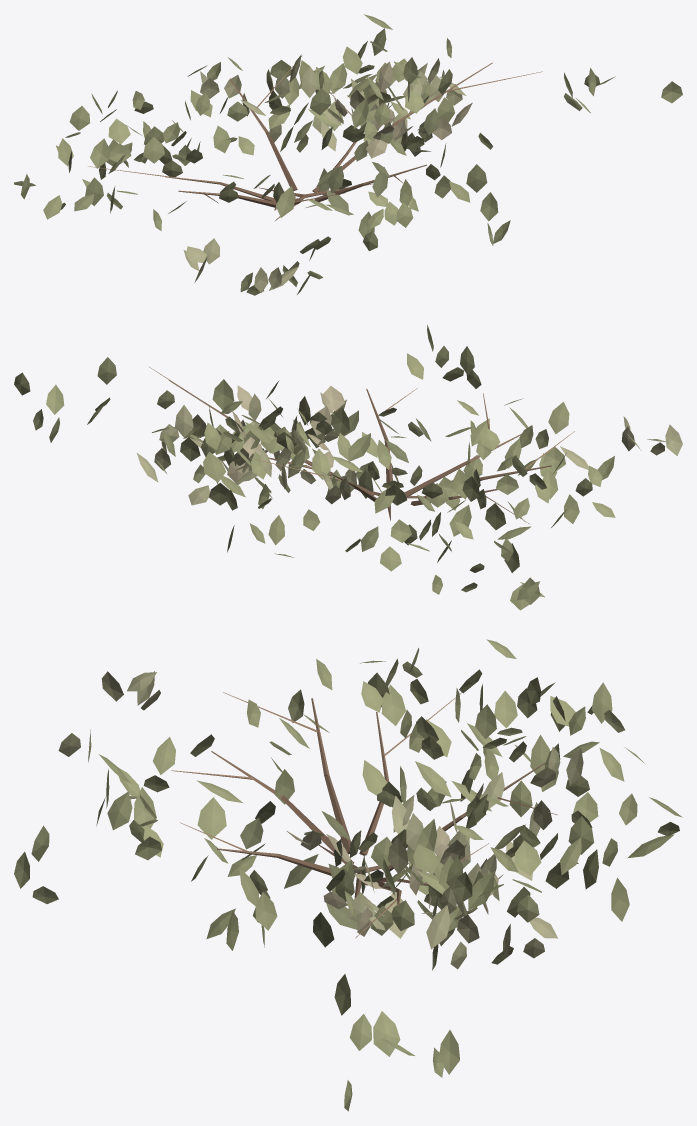
File: bush_3d_04.glb
3 views of the same model, one above another, from view 1: azimuth 30°, elevation 25°; view 2: azimuth 150°, elevation 25°; view 3: azimuth 270°, elevation 25° (orthographic). The views are drawn at different scales.
Parts seen in each view (by area): view 1: bush_3d_04_foliage, bush_3d_04_wood; view 2: bush_3d_04_foliage, bush_3d_04_wood; view 3: bush_3d_04_foliage, bush_3d_04_wood.
Part boxes in pixels (bbox=[...]): bush_3d_04_foliage: bbox=[14, 14, 682, 295]; bush_3d_04_wood: bbox=[88, 55, 542, 220]; bush_3d_04_foliage: bbox=[14, 325, 682, 610]; bush_3d_04_wood: bbox=[149, 367, 574, 523]; bush_3d_04_foliage: bbox=[14, 639, 682, 1111]; bush_3d_04_wood: bbox=[171, 692, 557, 938].
Bounding box in the file's own units: 3.8 × 0.75 × 2.6.
